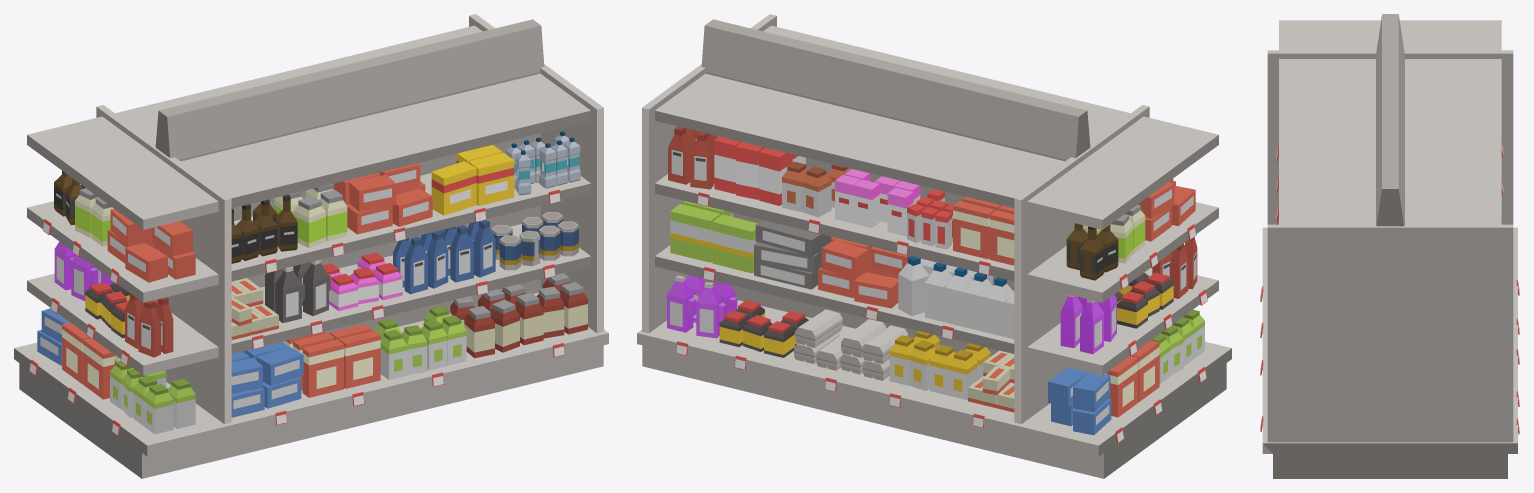
Rendered from ShelfIslePreset.glb.
The picture shows the model from 3 angles, left to right: view 1: azimuth 30°, elevation 25°; view 2: azimuth 150°, elevation 25°; view 3: azimuth 270°, elevation 25°; orthographic projection. The views are drawn at different scales.
Visible parts, largest first — view 1: SI_Prop_Shelf_Isle_Preset_01, SI_Prop_Shelf_Isle_Preset_Items, SI_Prop_Shelf_Isle_Preset_Pricetags; view 2: SI_Prop_Shelf_Isle_Preset_01, SI_Prop_Shelf_Isle_Preset_Items, SI_Prop_Shelf_Isle_Preset_Pricetags; view 3: SI_Prop_Shelf_Isle_Preset_01, SI_Prop_Shelf_Isle_Preset_Pricetags.
Part boxes in pixels (<box>): SI_Prop_Shelf_Isle_Preset_01: <box>14,14,608,478</box>; SI_Prop_Shelf_Isle_Preset_Items: <box>37,131,587,434</box>; SI_Prop_Shelf_Isle_Preset_Pricetags: <box>29,190,564,435</box>; SI_Prop_Shelf_Isle_Preset_01: <box>637,14,1231,478</box>; SI_Prop_Shelf_Isle_Preset_Items: <box>667,126,1204,435</box>; SI_Prop_Shelf_Isle_Preset_Pricetags: <box>676,192,1207,443</box>; SI_Prop_Shelf_Isle_Preset_01: <box>1262,14,1517,478</box>; SI_Prop_Shelf_Isle_Preset_Pricetags: <box>1260,142,1519,434</box>.
Bounding box in the file's own units: 0.0691 × 0.0428 × 0.035.
Materials: 1 (1 with a texture image).
